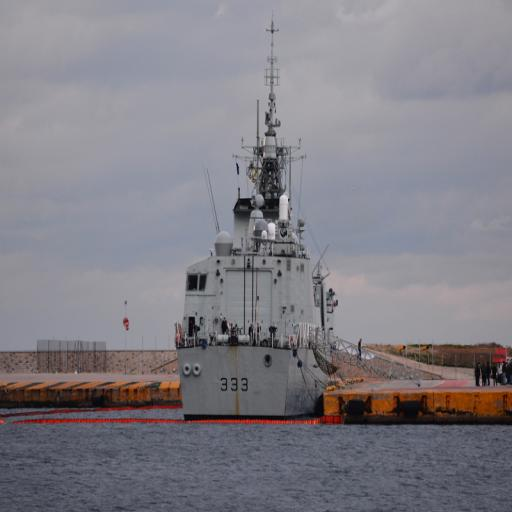Fragata: (178, 9, 340, 426)
